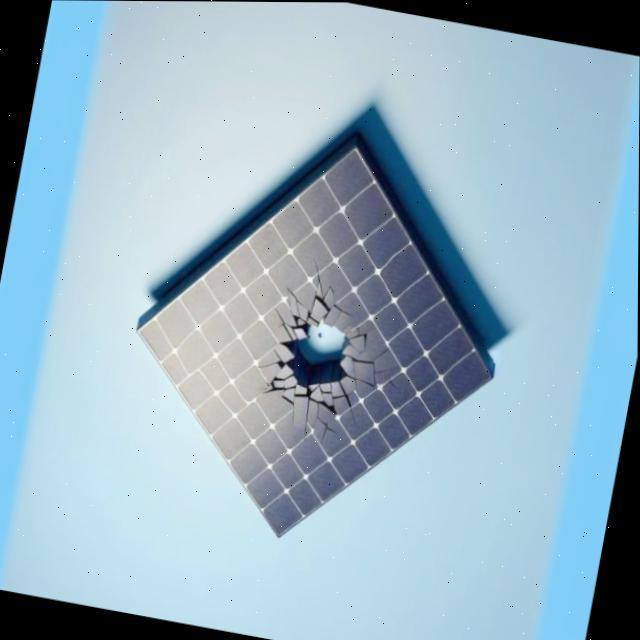Anomaly Solar Panel: (119, 149, 514, 538)
Structural Damage: (217, 263, 406, 458)
